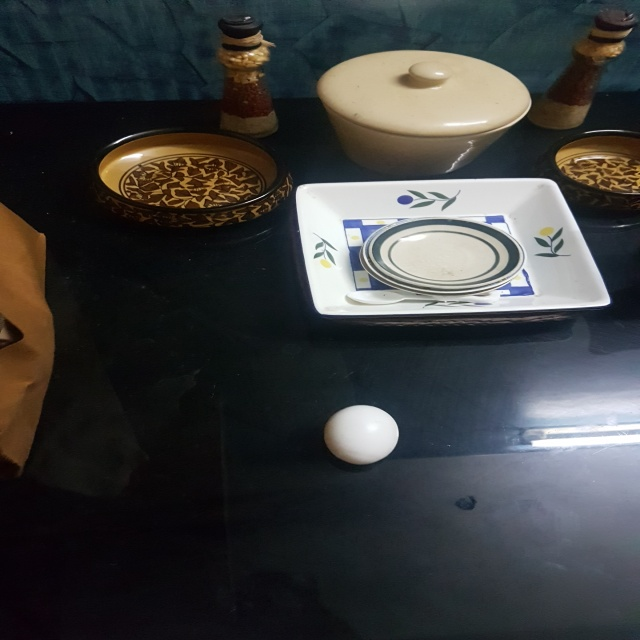eggs: (322, 402, 399, 463)
